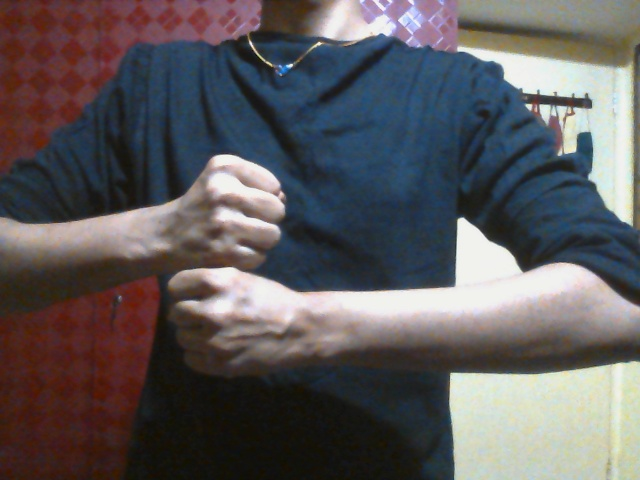G: (167, 151, 288, 376)
